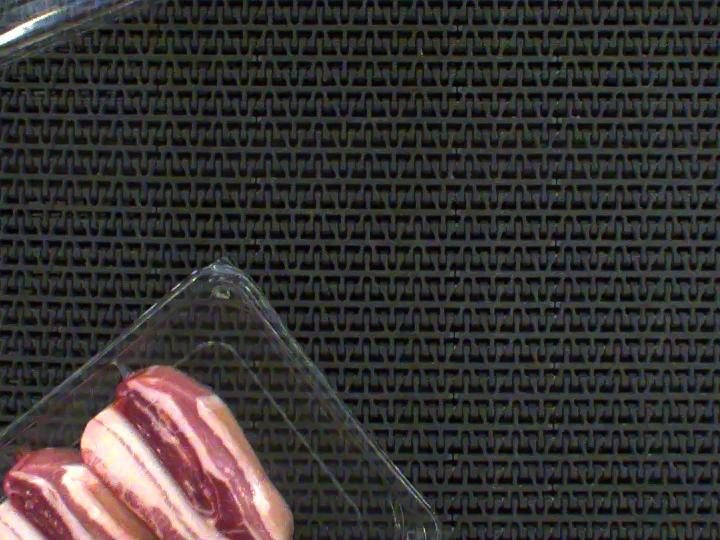packaging-error: (110, 352, 141, 381)
